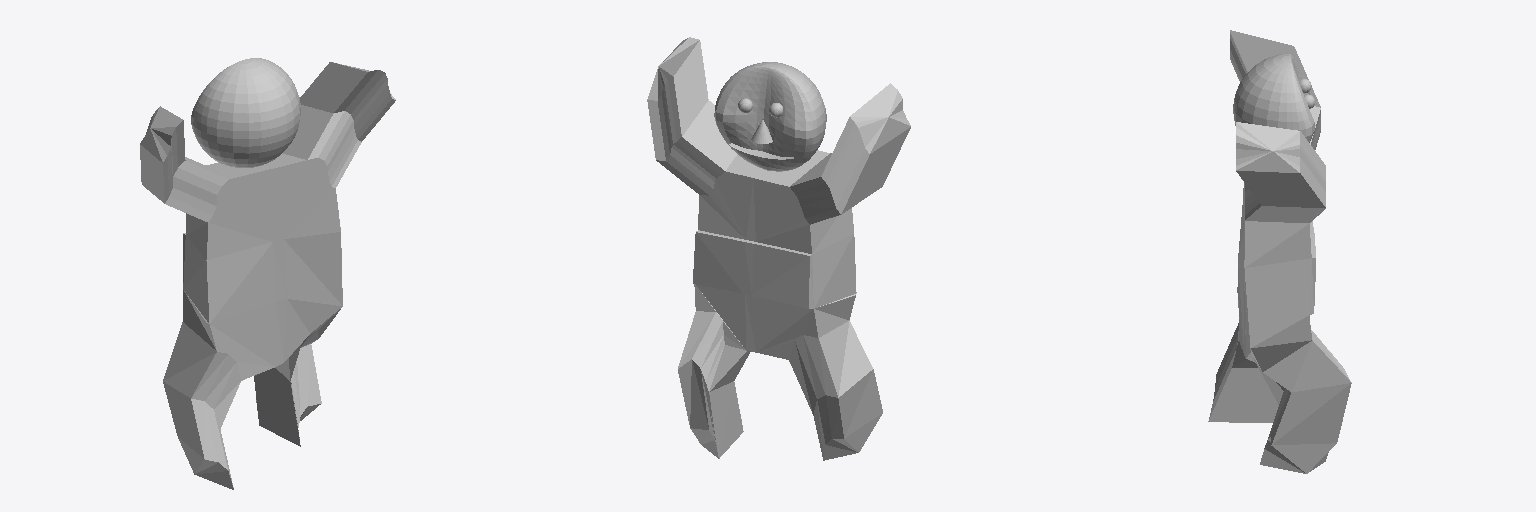
The model's file is man_000006.obj.
The picture shows the model from 3 angles: view 1: azimuth 30°, elevation 25°; view 2: azimuth 150°, elevation 25°; view 3: azimuth 270°, elevation 25°; orthographic projection.
Visible parts, largest first — view 1: Cube; view 2: Cube; view 3: Cube.
Part boxes in pixels (bbox=[...]): Cube: bbox=[140, 58, 395, 489]; Cube: bbox=[647, 37, 910, 460]; Cube: bbox=[1208, 30, 1351, 473].
Bounding box in the file's own units: 79.08 × 124 × 41.56.